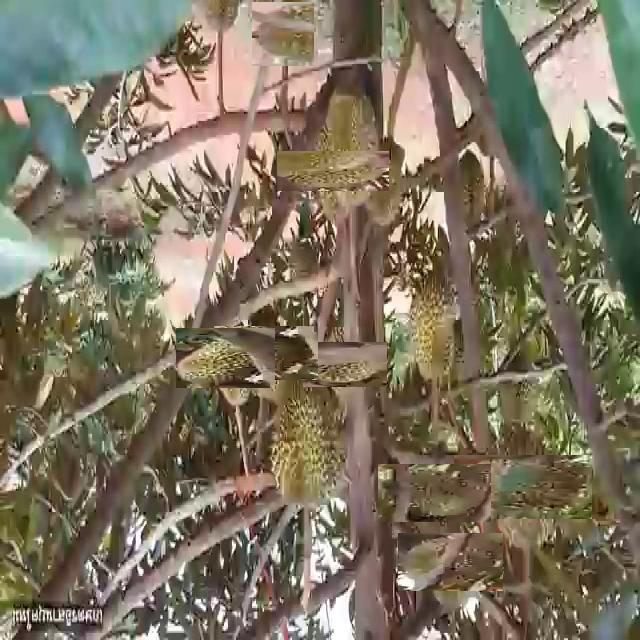durian: (268, 371, 344, 514), (473, 436, 574, 537), (323, 84, 383, 213), (392, 451, 477, 536), (409, 521, 492, 603), (186, 318, 266, 398), (227, 313, 306, 392), (408, 266, 458, 388), (294, 133, 371, 209), (360, 132, 408, 228), (312, 332, 378, 397), (252, 2, 315, 65), (452, 144, 488, 238), (195, 2, 242, 39)
